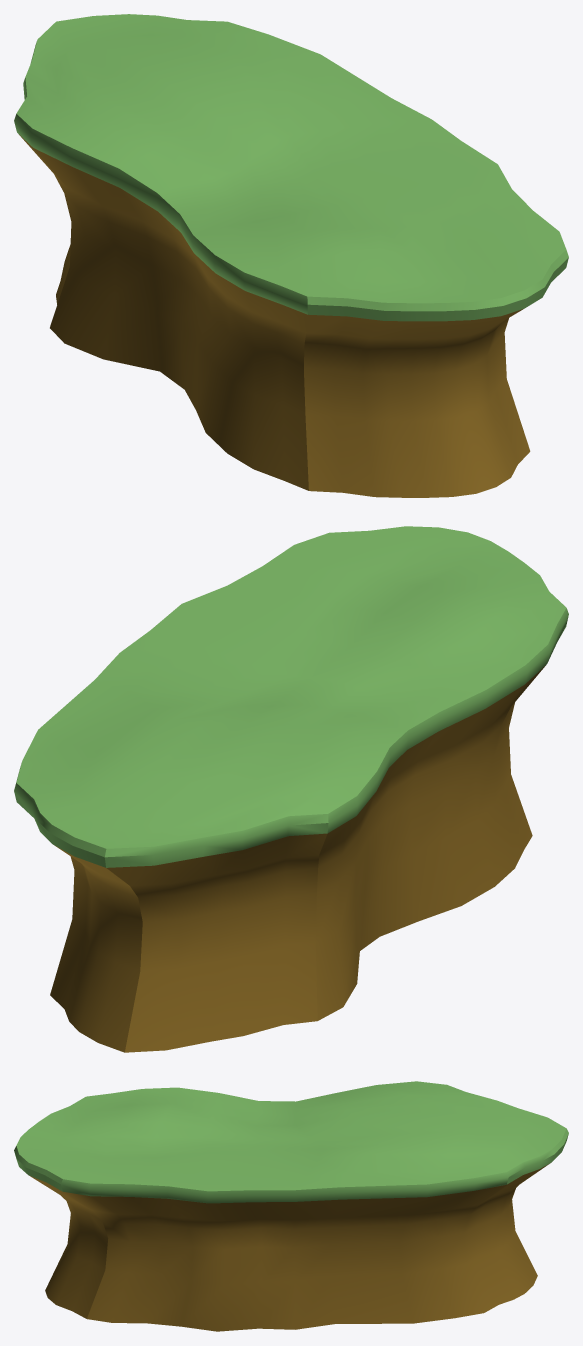
The model's file is Mesh_GroundBlock_01.fbx.
The picture shows the model from 3 angles, top to bottom: view 1: azimuth 30°, elevation 25°; view 2: azimuth 150°, elevation 25°; view 3: azimuth 270°, elevation 25°; orthographic projection. The views are drawn at different scales.
Parts seen in each view (by area): view 1: Land_01; view 2: Land_01; view 3: Land_01.
Part boxes in pixels (x1,y1,x2,y2): Land_01: (14, 14, 568, 497); Land_01: (14, 526, 568, 1052); Land_01: (14, 1081, 568, 1331).
Size of the model in its own units: 89.65 by 59.51 by 194.
